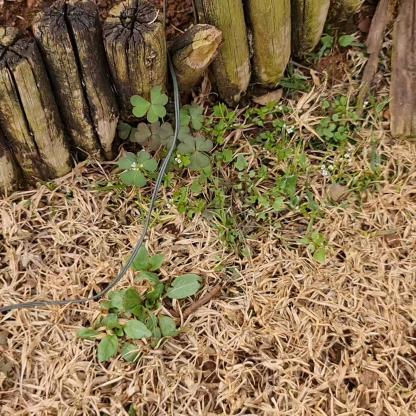Weeds: (77, 247, 202, 365), (119, 84, 217, 190)
